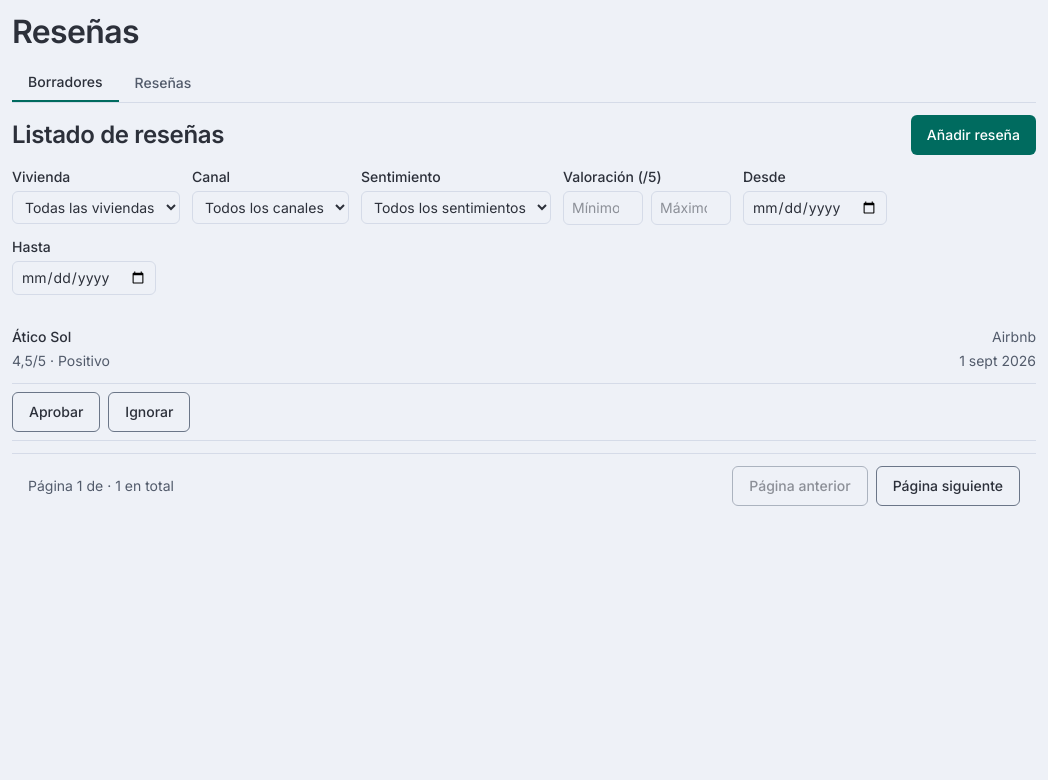
Test: ReviewsView — the shared error banner (R3.5, R3.6, R3.7) › shows the 409 copy of its own, distinct from the generic one
Click the button "Aprobar": coordinates (56, 412) [12,392,100,432]
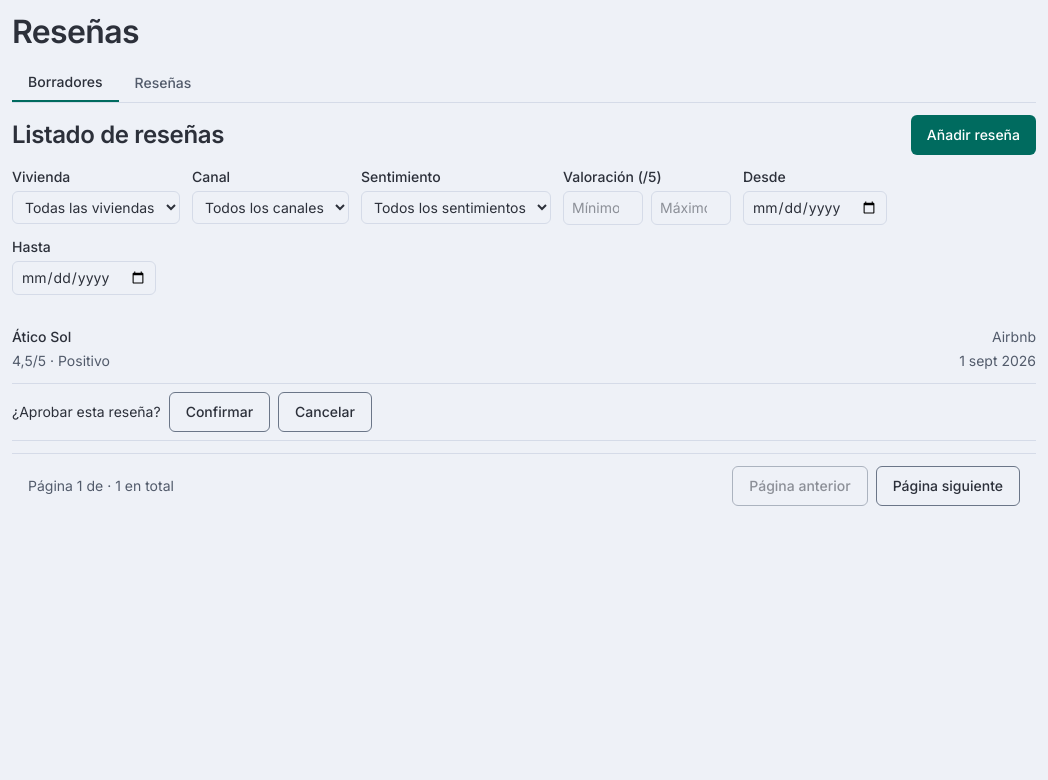
Click the button "Confirmar": coordinates (219, 412) [169,392,270,432]
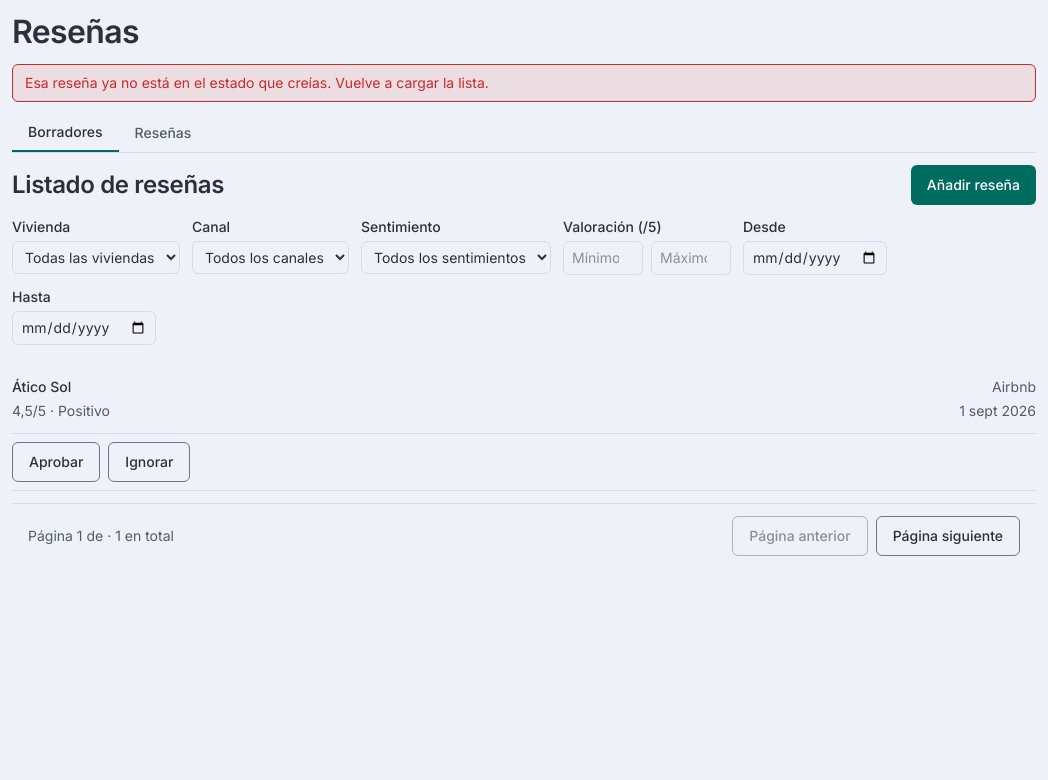
Expected: the text "Esa reseña ya no está en el estado que creías. Vuelve a cargar la lista." is shown, [12,64,1036,102]
